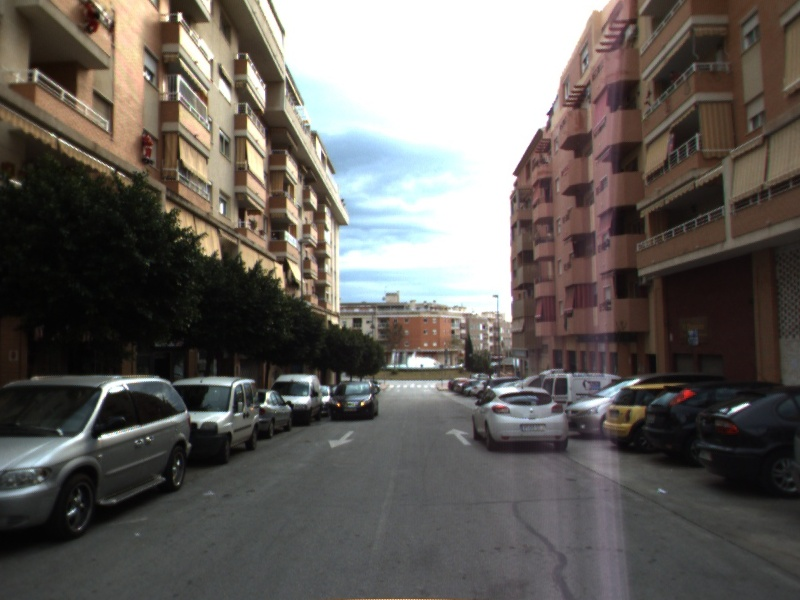STRAIGHT: (444, 426, 474, 447)
